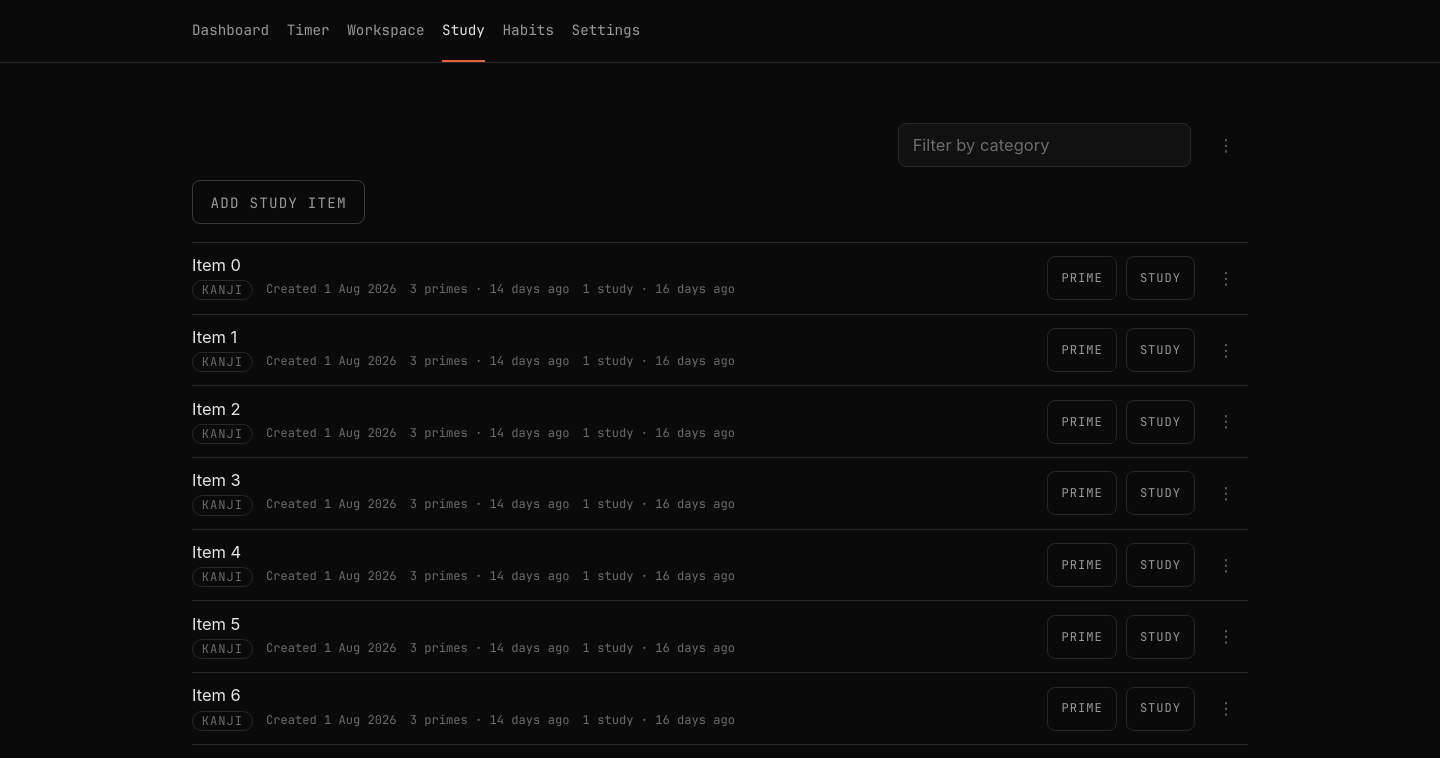
Test case: logging interactions › sends a studied item to the back of the queue, out of the loaded list
Expected: the heading "Item 0" is shown, [192,256,241,276]
Click the button with aria-label "show the answer" at (1160, 278), box [1126,256,1195,300]
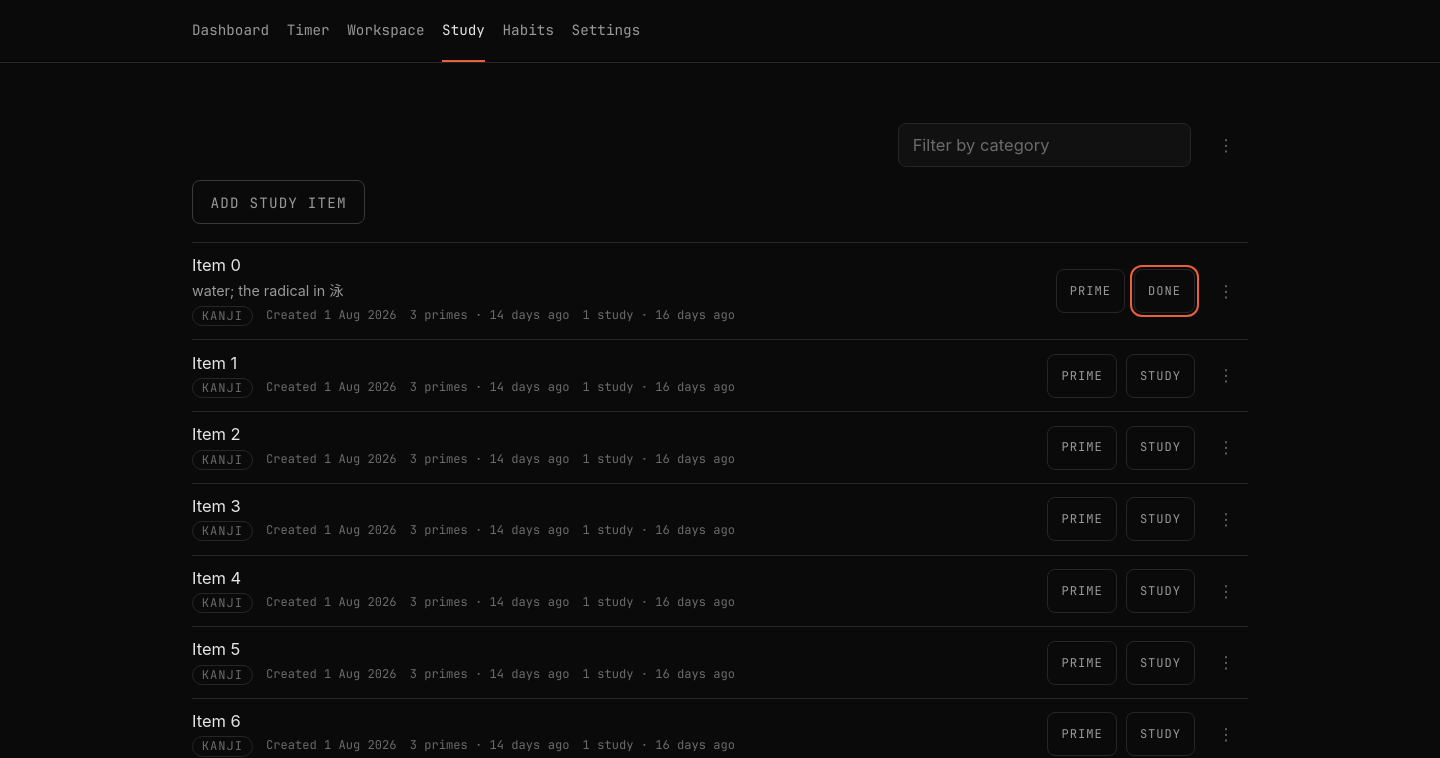
Click the button with aria-label "finish studying" at (1165, 291), box [1134,269,1195,313]
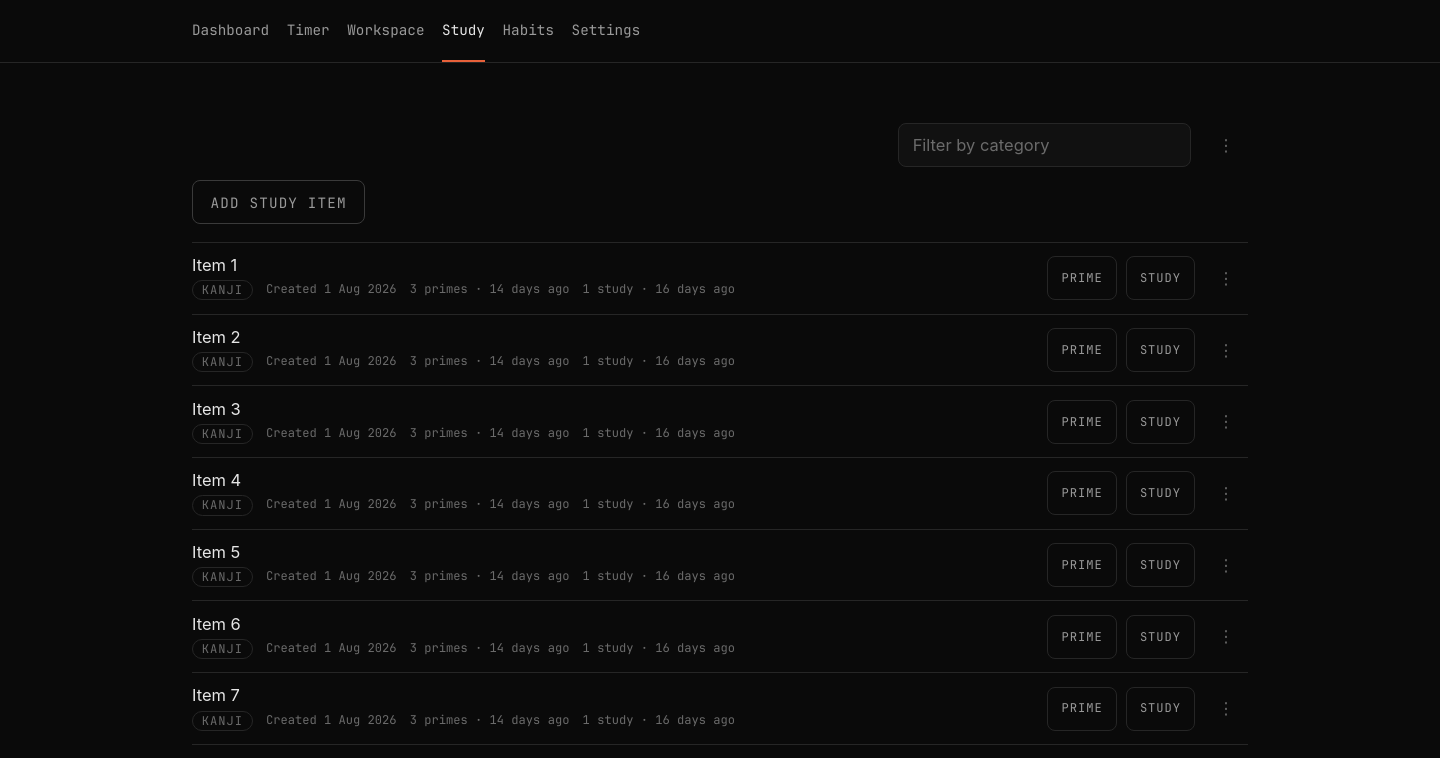
Expected: the heading "Item 1" is shown, [192,256,237,276]
Result: the heading "Item 0" is gone
